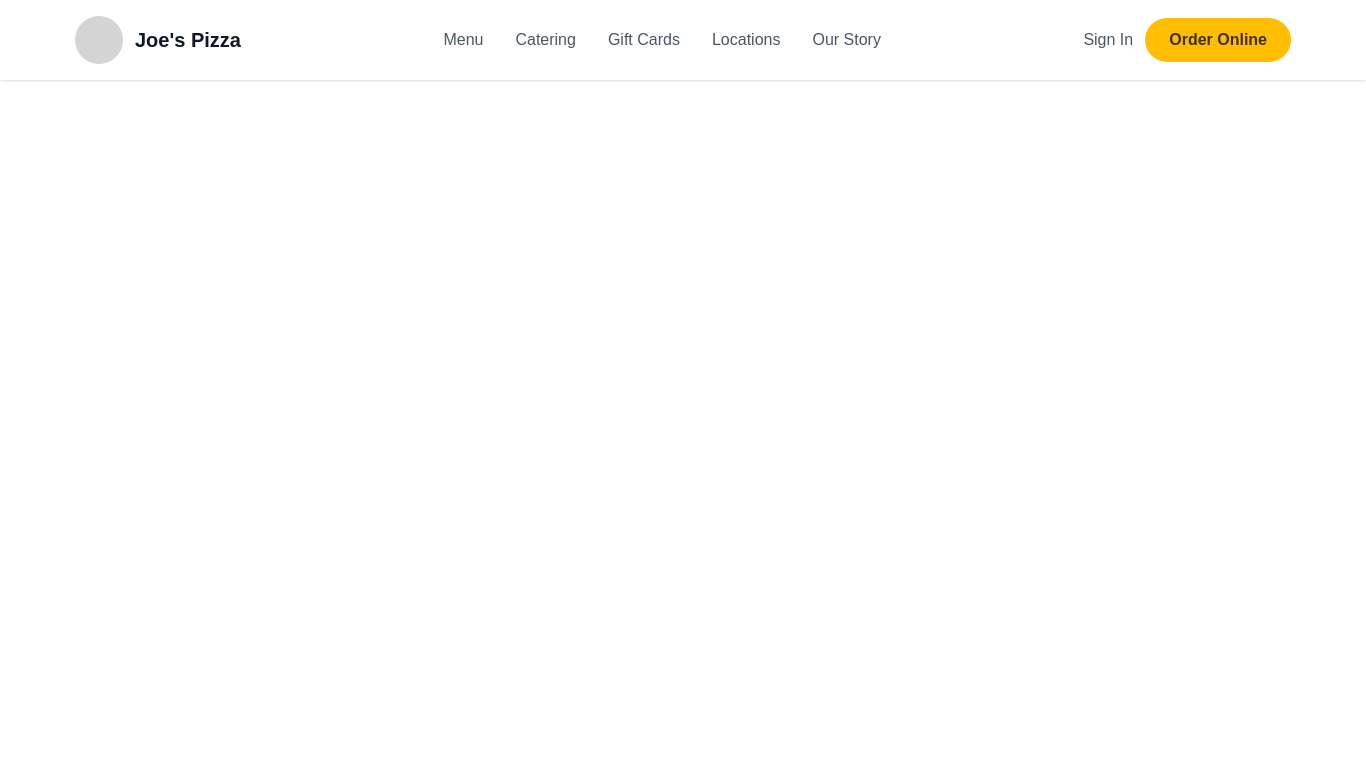
Test case: Navigation › Sign In modal › should close Sign In modal when close button is clicked
This screenshot has width=1366, height=768.
Open modal
What coordinates should you click on to do the following:
click the button "Sign In"
I would click on:
 (1108, 40)
Its box is [1083, 28, 1133, 52].
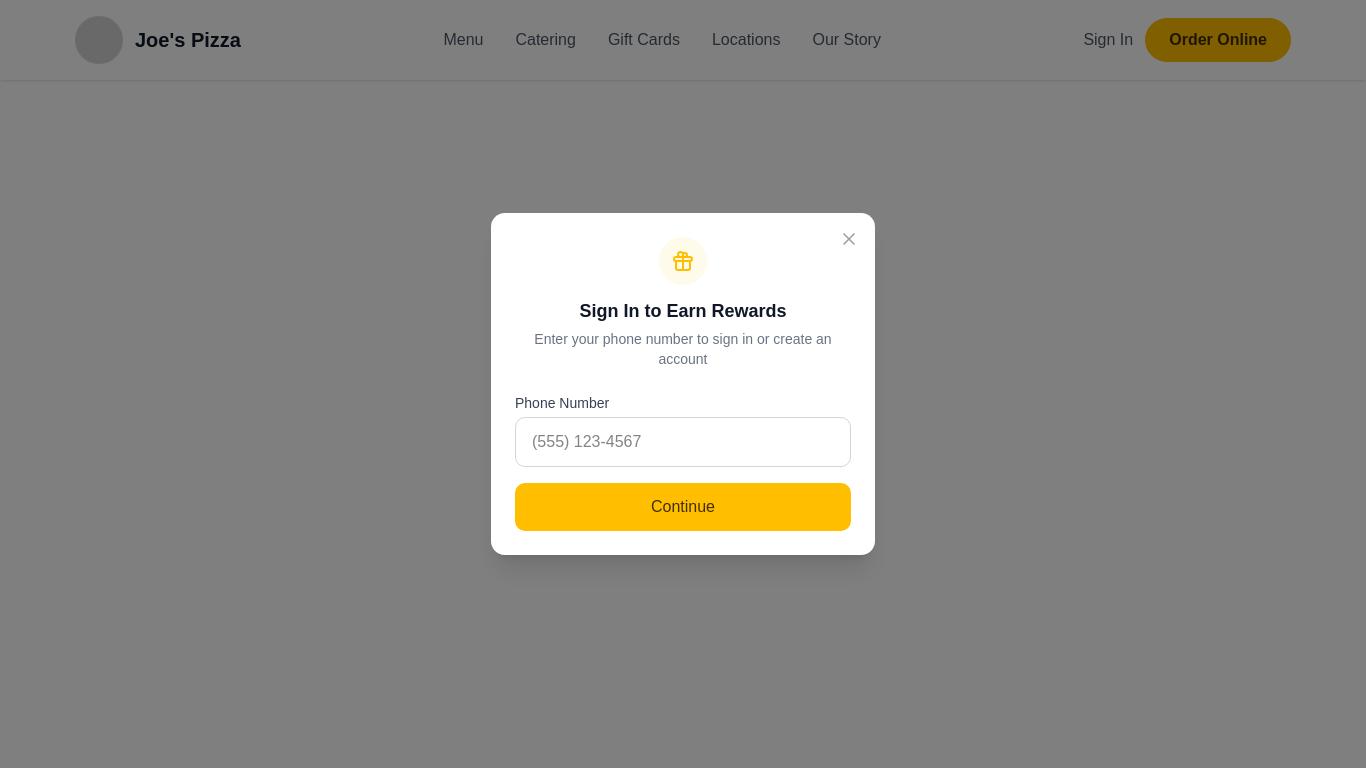
Check: the heading "Sign In to Earn Rewards" is shown, box [580, 301, 786, 321]
Close modal
What coordinates should you click on to do the following:
click the button named "Close"
I would click on:
 (849, 239)
Its box is [839, 229, 859, 249].
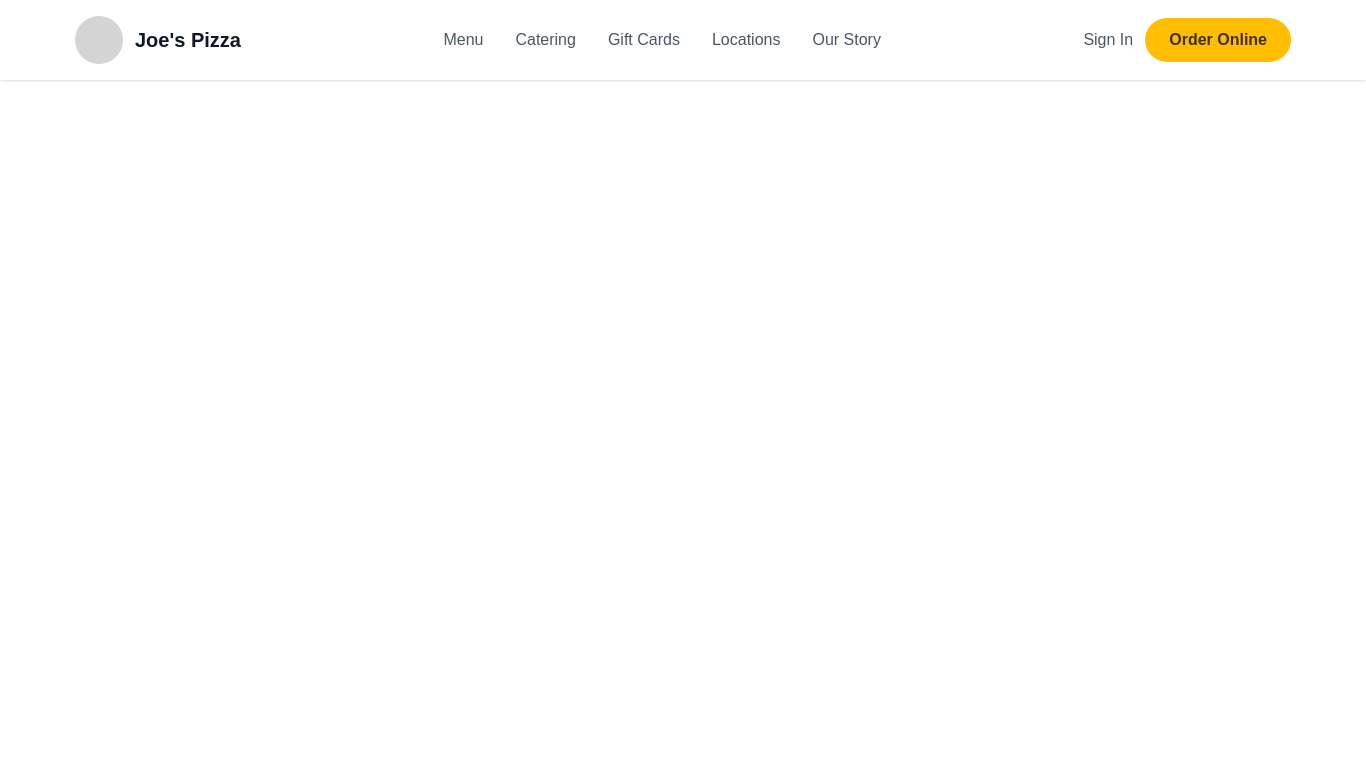
Check: the heading "Sign In to Earn Rewards" is gone
